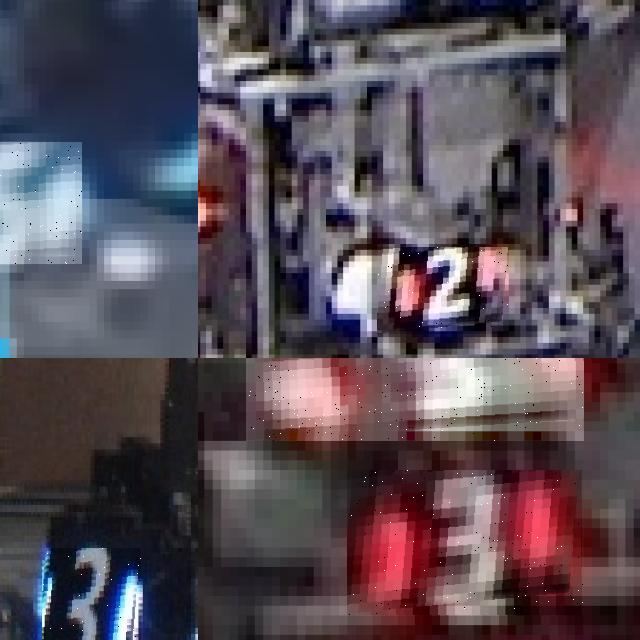B3: (42, 547, 140, 640)
B5: (0, 141, 82, 264)
R2: (377, 247, 509, 334)
R3: (348, 470, 584, 615), (246, 358, 583, 441)
